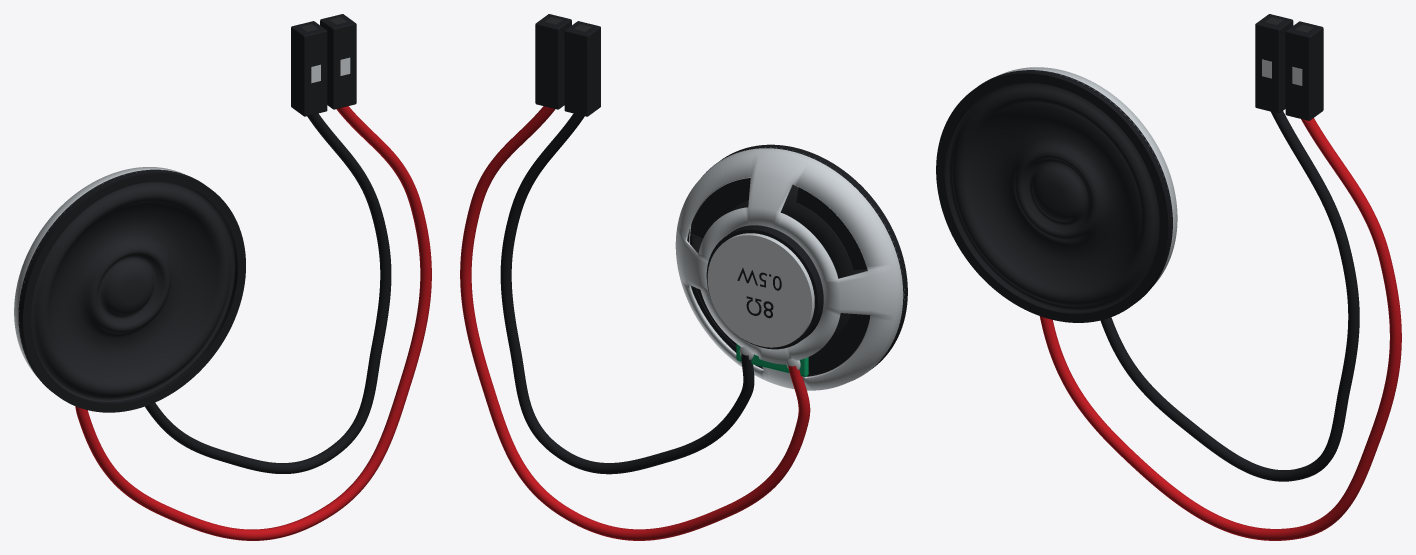
3 views of the same model, side by side, from view 1: azimuth 30°, elevation 25°; view 2: azimuth 150°, elevation 25°; view 3: azimuth 330°, elevation 25° (orthographic). The views are drawn at different scales.
Parts seen in each view (by area): view 1: Diaphragm and concentric surround, Red speaker wire, Black front rim, Black speaker wire, Dupont female housing, Dupont female housing.001, Pressed metal frame; view 2: Pressed metal frame, Red speaker wire, Rear magnet cap, Black speaker wire, Dupont female housing, Dupont female housing.001, Diaphragm and concentric surround, Black front rim, Magnet ferrite, Dark cavity behind vent.002, Dark cavity behind vent, Dark cavity behind vent.001 (+1 smaller); view 3: Diaphragm and concentric surround, Red speaker wire, Black front rim, Black speaker wire, Dupont female housing.001, Dupont female housing, Pressed metal frame.
Part boxes in pixels (left/top/right/bottom): Diaphragm and concentric surround: left=31, top=181, right=235, bottom=401; Red speaker wire: left=75, top=106, right=431, bottom=540; Black front rim: left=18, top=169, right=245, bottom=412; Black speaker wire: left=145, top=113, right=391, bottom=473; Dupont female housing: left=291, top=21, right=327, bottom=116; Dupont female housing.001: left=320, top=14, right=356, bottom=109; Pressed metal frame: left=14, top=167, right=185, bottom=376; Pressed metal frame: left=675, top=147, right=904, bottom=390; Red speaker wire: left=460, top=106, right=810, bottom=540; Rear magnet cap: left=707, top=233, right=814, bottom=347; Black speaker wire: left=500, top=113, right=754, bottom=474; Dupont female housing: left=564, top=21, right=600, bottom=116; Dupont female housing.001: left=535, top=14, right=571, bottom=109; Diaphragm and concentric surround: left=690, top=185, right=867, bottom=376; Black front rim: left=687, top=144, right=907, bottom=380; Magnet ferrite: left=706, top=225, right=823, bottom=349; Dark cavity behind vent.002: left=808, top=314, right=870, bottom=375; Dark cavity behind vent: left=690, top=178, right=750, bottom=239; Dark cavity behind vent.001: left=796, top=187, right=867, bottom=269; Diaphragm and concentric surround: left=947, top=82, right=1159, bottom=311; Red speaker wire: left=1039, top=118, right=1401, bottom=540; Black front rim: left=936, top=70, right=1172, bottom=322; Black speaker wire: left=1100, top=111, right=1359, bottom=481; Dupont female housing.001: left=1285, top=21, right=1323, bottom=120; Dupont female housing: left=1255, top=14, right=1293, bottom=113; Pressed metal frame: left=999, top=67, right=1177, bottom=285.
Bounding box in the file's own units: 44.06 × 49.47 × 6.67.
